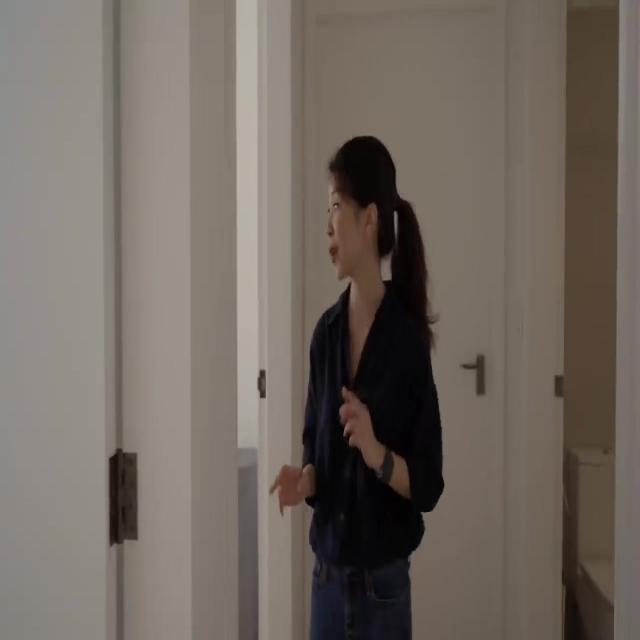door: (306, 0, 508, 638)
person: (268, 134, 444, 639)
